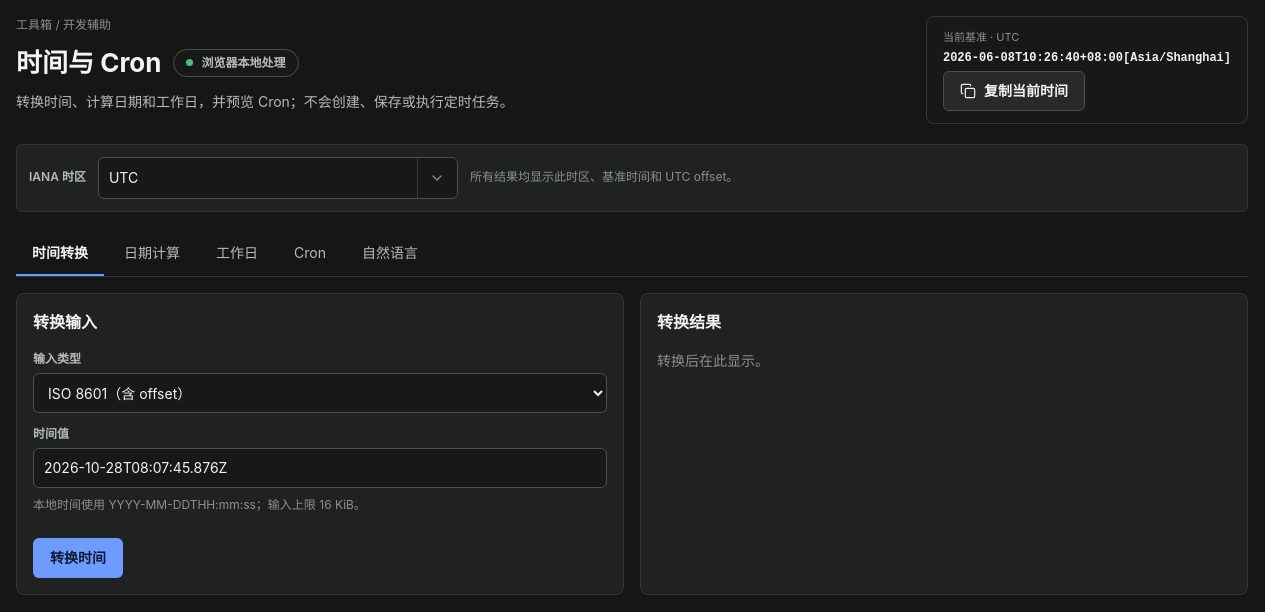
TimeToolView current time copy across clock ticks › keeps a local retryable failure after the clock ticks and recovers by copying the latest value
expect the text "2026-06-08T10:26:40+08:00[Asia/Shanghai]" is shown: met, box 943,49 -> 1231,68
Click the button "复制当前时间" at {"x": 1014, "y": 91}, box 943,71 -> 1085,111
Wait 1000 ms
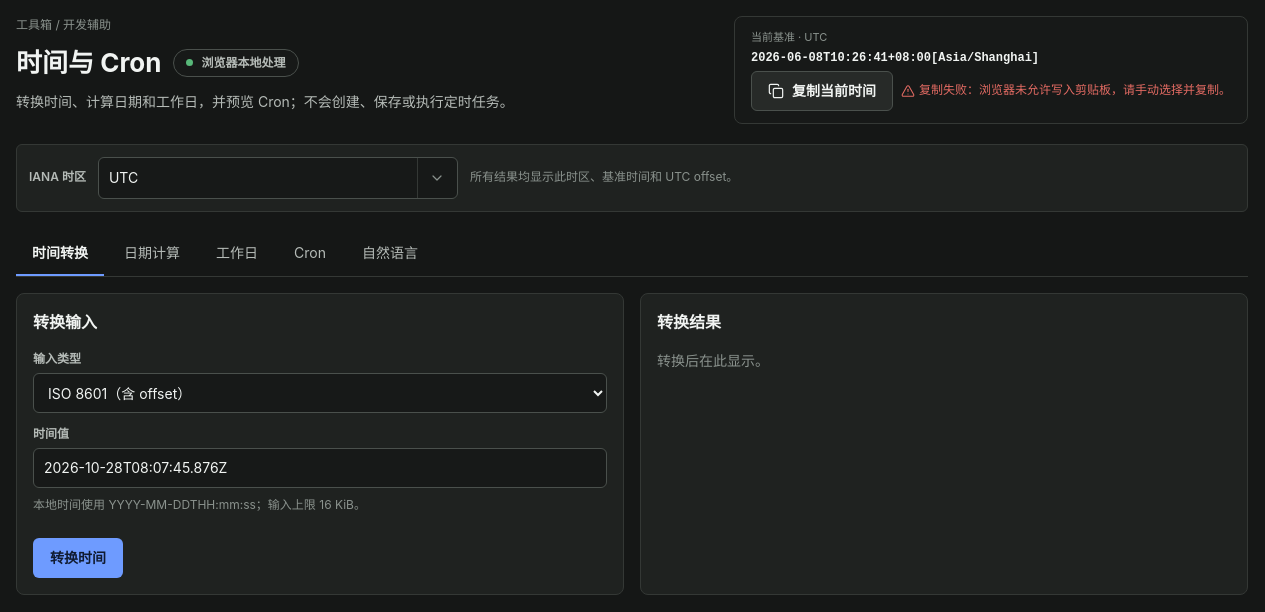
expect the text "2026-06-08T10:26:41+08:00[Asia/Shanghai]" is shown: met, box 751,51 -> 1039,65
expect the message "复制失败：浏览器未允许写入剪贴板，请手动选择并复制。" is shown: met, box 901,81 -> 1231,100
// 重试复制当时最新值 B 并恢复成功。
Click the button "复制当前时间" at {"x": 822, "y": 91}, box 751,71 -> 893,111
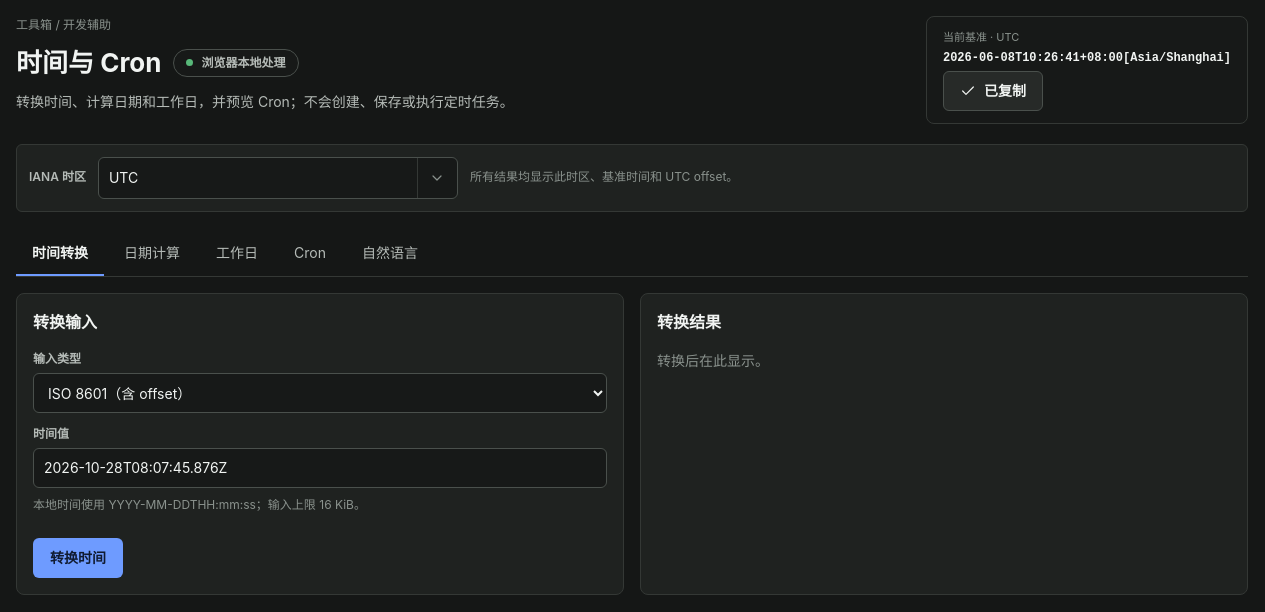
expect the button "已复制" is shown: met, box 943,71 -> 1043,111
